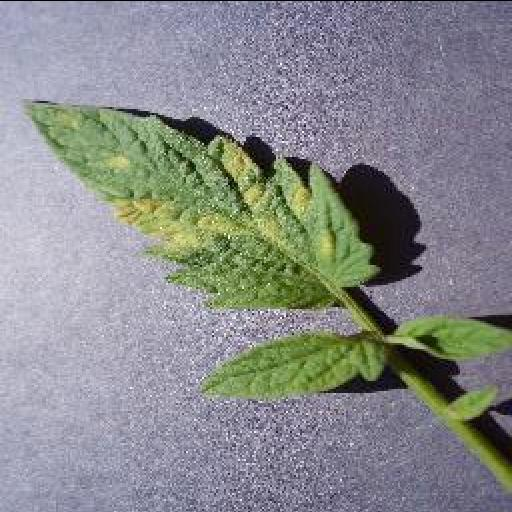disease_tomato: (19, 97, 381, 306)
